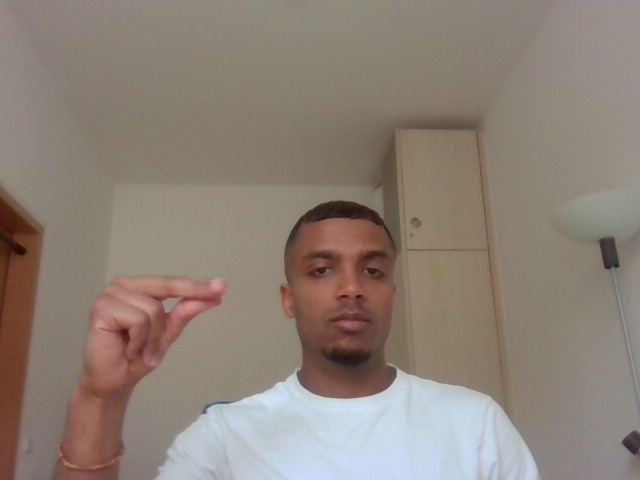no: (66, 259, 249, 405)
